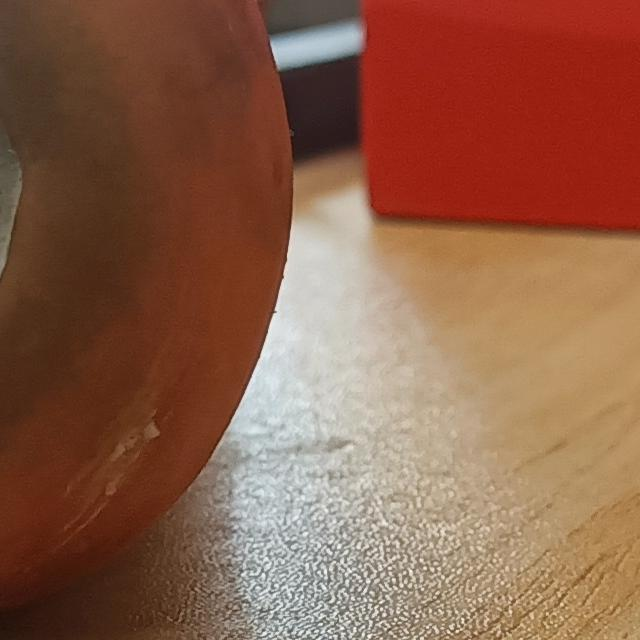carrot: (1, 1, 304, 640)
